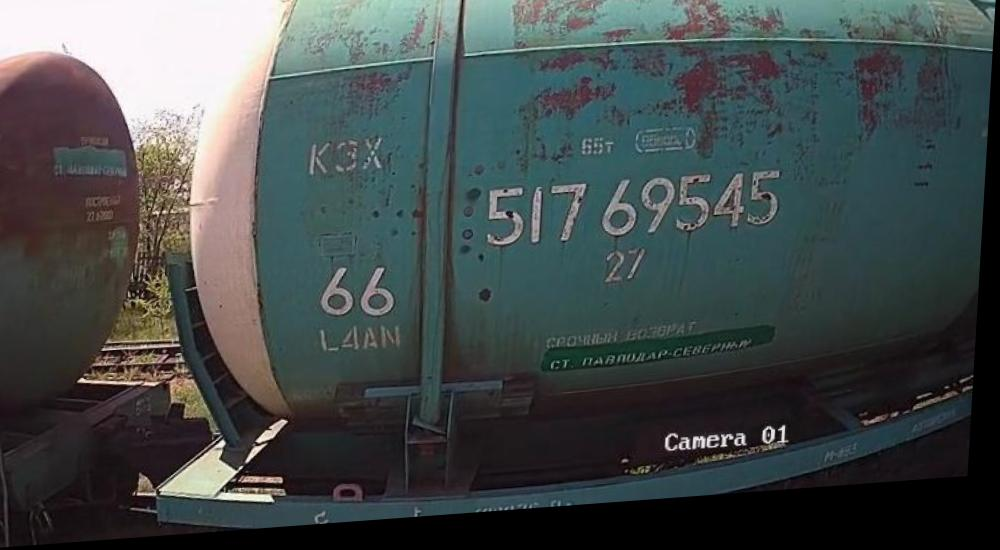Wagon-number: (483, 173, 791, 261)
